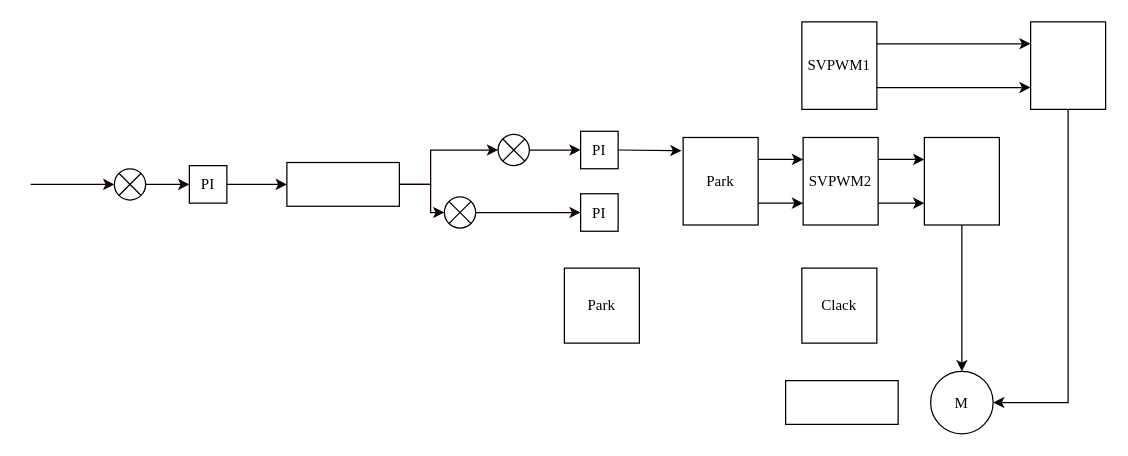
The diagram is 1128 pixels wide and 456 high, and some of its shapes have lost their labels. The centre of each missing label's shape, as x and y in pixels:
1#逆变器: point (1067, 65)
2#逆变器: point (961, 180)
控制策略: point (342, 183)
旋转变压器: point (841, 401)
